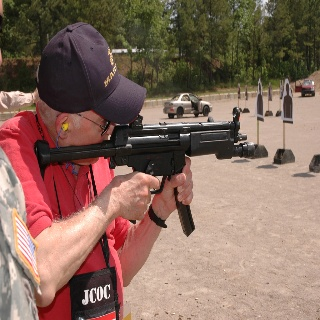rifle: (35, 106, 269, 236)
